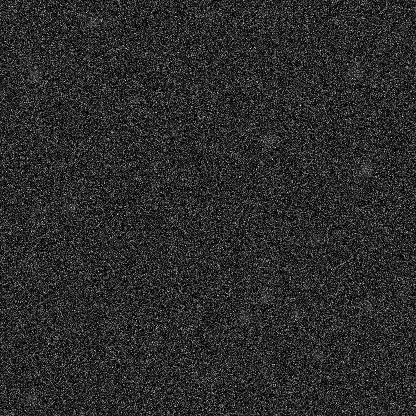Ring: (27, 204, 51, 228)
Spot: (19, 54, 35, 70), (287, 305, 303, 321), (308, 230, 324, 246), (147, 334, 163, 350), (256, 288, 272, 304), (199, 7, 215, 23), (260, 130, 276, 146), (23, 390, 39, 406), (309, 347, 325, 363), (358, 299, 374, 315), (237, 308, 253, 324), (346, 65, 362, 81), (84, 14, 100, 30), (60, 197, 76, 213), (16, 255, 32, 271), (284, 232, 300, 248), (27, 66, 43, 82), (356, 161, 372, 177)
